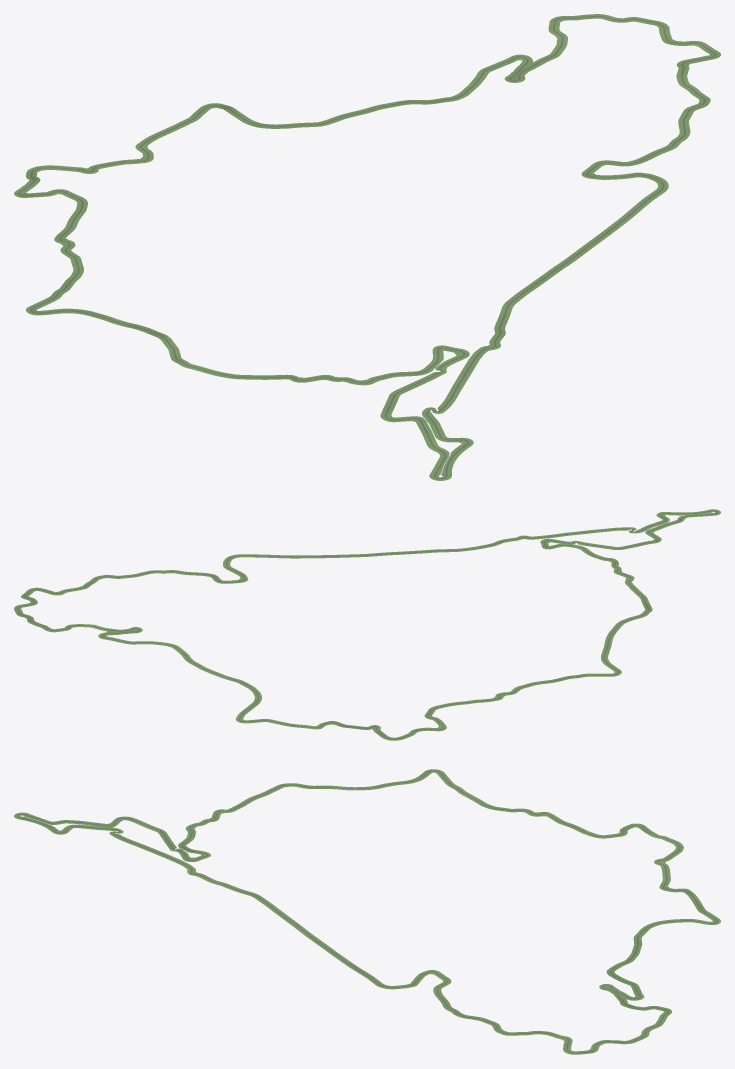
The model's file is road_mesh.glb.
3 views of the same model, one above another, from view 1: azimuth 30°, elevation 25°; view 2: azimuth 150°, elevation 25°; view 3: azimuth 270°, elevation 25° (orthographic). The views are drawn at different scales.
Bounding box in the file's own units: 6160 × 288 × 6423.
